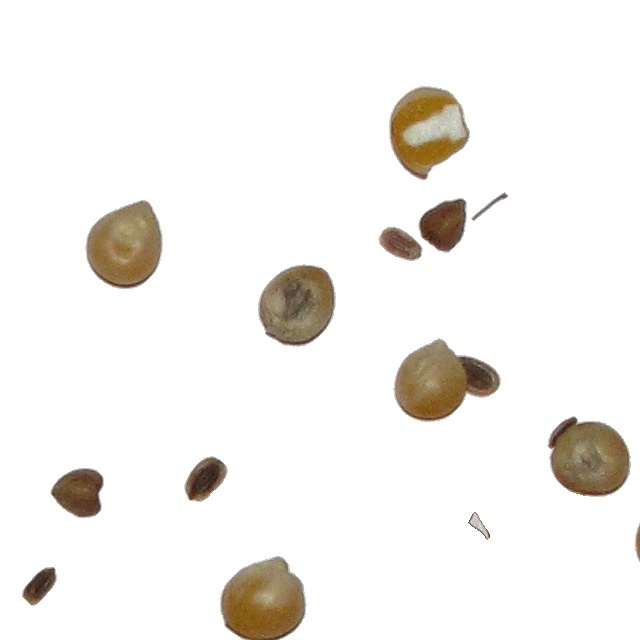buckwheat: (49, 467, 105, 519), (417, 197, 468, 254), (183, 455, 229, 503), (377, 225, 424, 262), (21, 566, 58, 607), (467, 511, 491, 541)
dill: (470, 191, 509, 222)
mais: (388, 85, 471, 182), (219, 555, 308, 640), (84, 199, 164, 290), (546, 415, 632, 498), (257, 263, 337, 348), (392, 331, 457, 423), (634, 501, 640, 584)
